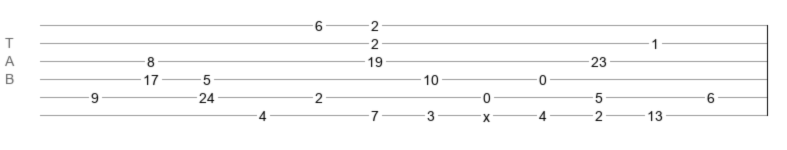0: (483, 90, 491, 100), (539, 72, 547, 82)
1: (651, 36, 659, 46)
10: (423, 72, 439, 82)
13: (647, 108, 663, 118)
17: (143, 72, 159, 82)
19: (367, 54, 383, 64)
2: (315, 90, 323, 100), (371, 18, 379, 28), (371, 36, 379, 46), (595, 108, 603, 118)
23: (591, 54, 607, 64)
24: (199, 90, 215, 100)
3: (427, 108, 435, 118)
4: (259, 108, 267, 118), (539, 108, 547, 118)
5: (203, 72, 211, 82), (595, 90, 603, 100)
6: (315, 18, 323, 28), (707, 90, 715, 100)
7: (371, 108, 379, 118)
8: (147, 54, 155, 64)
9: (91, 90, 99, 100)
x: (483, 109, 490, 117)
